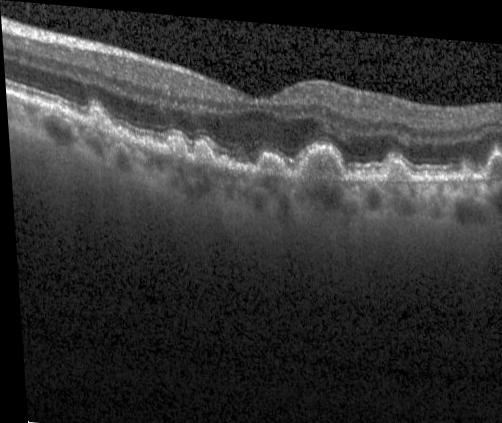retinal_drusen: (301, 141, 340, 173), (84, 108, 115, 133), (258, 150, 285, 169), (384, 153, 408, 174), (192, 139, 213, 160), (484, 146, 502, 169), (165, 135, 184, 154), (216, 151, 230, 165), (458, 157, 473, 170)
